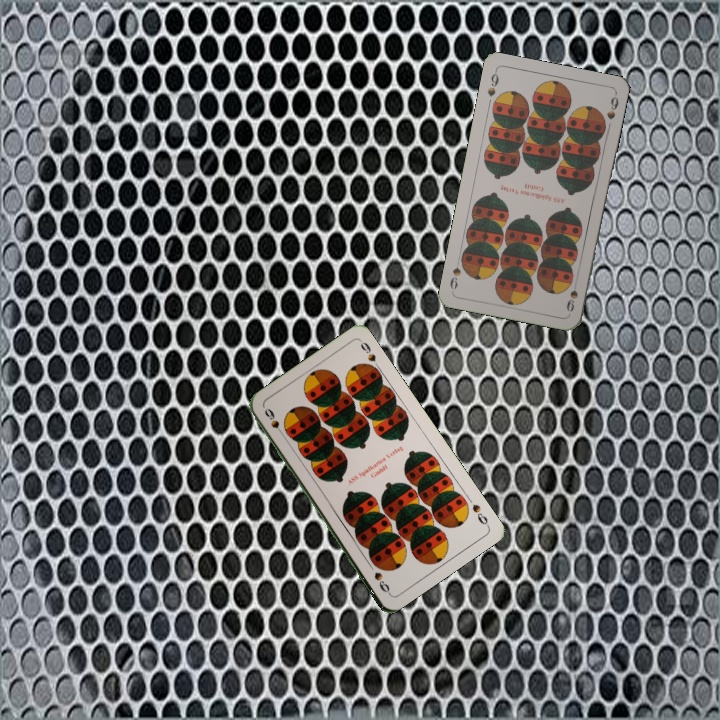S9: (260, 404, 288, 440), (562, 275, 580, 314), (468, 500, 491, 529), (483, 67, 501, 99)
